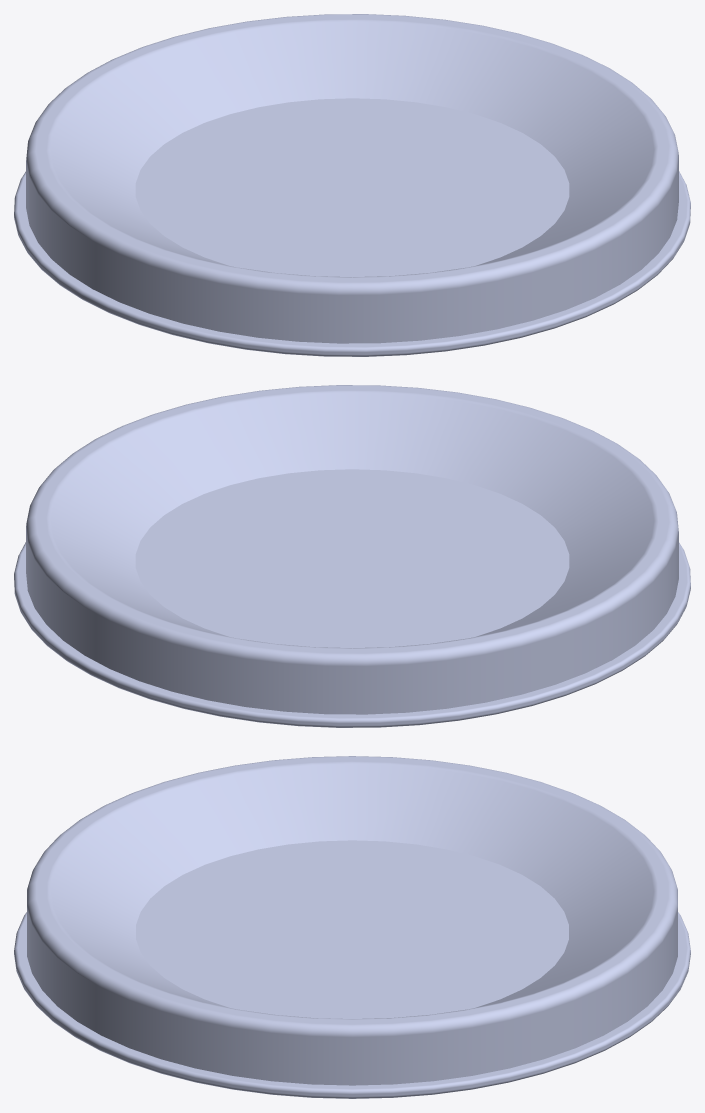
The model's file is 100_tapa_metal.glb.
3 renders of one model, top to bottom at view 1: azimuth 30°, elevation 25°; view 2: azimuth 150°, elevation 25°; view 3: azimuth 270°, elevation 25°, orthographic.
Visible parts, largest first — view 1: TAPA METALICA 100; view 2: TAPA METALICA 100; view 3: TAPA METALICA 100.
Boxes of the visible parts, bbox=[...] form: TAPA METALICA 100: bbox=[14, 14, 690, 356]; TAPA METALICA 100: bbox=[14, 385, 690, 727]; TAPA METALICA 100: bbox=[14, 756, 690, 1098].
Bounding box in the file's own units: 0.1044 × 0.0113 × 0.1044.
